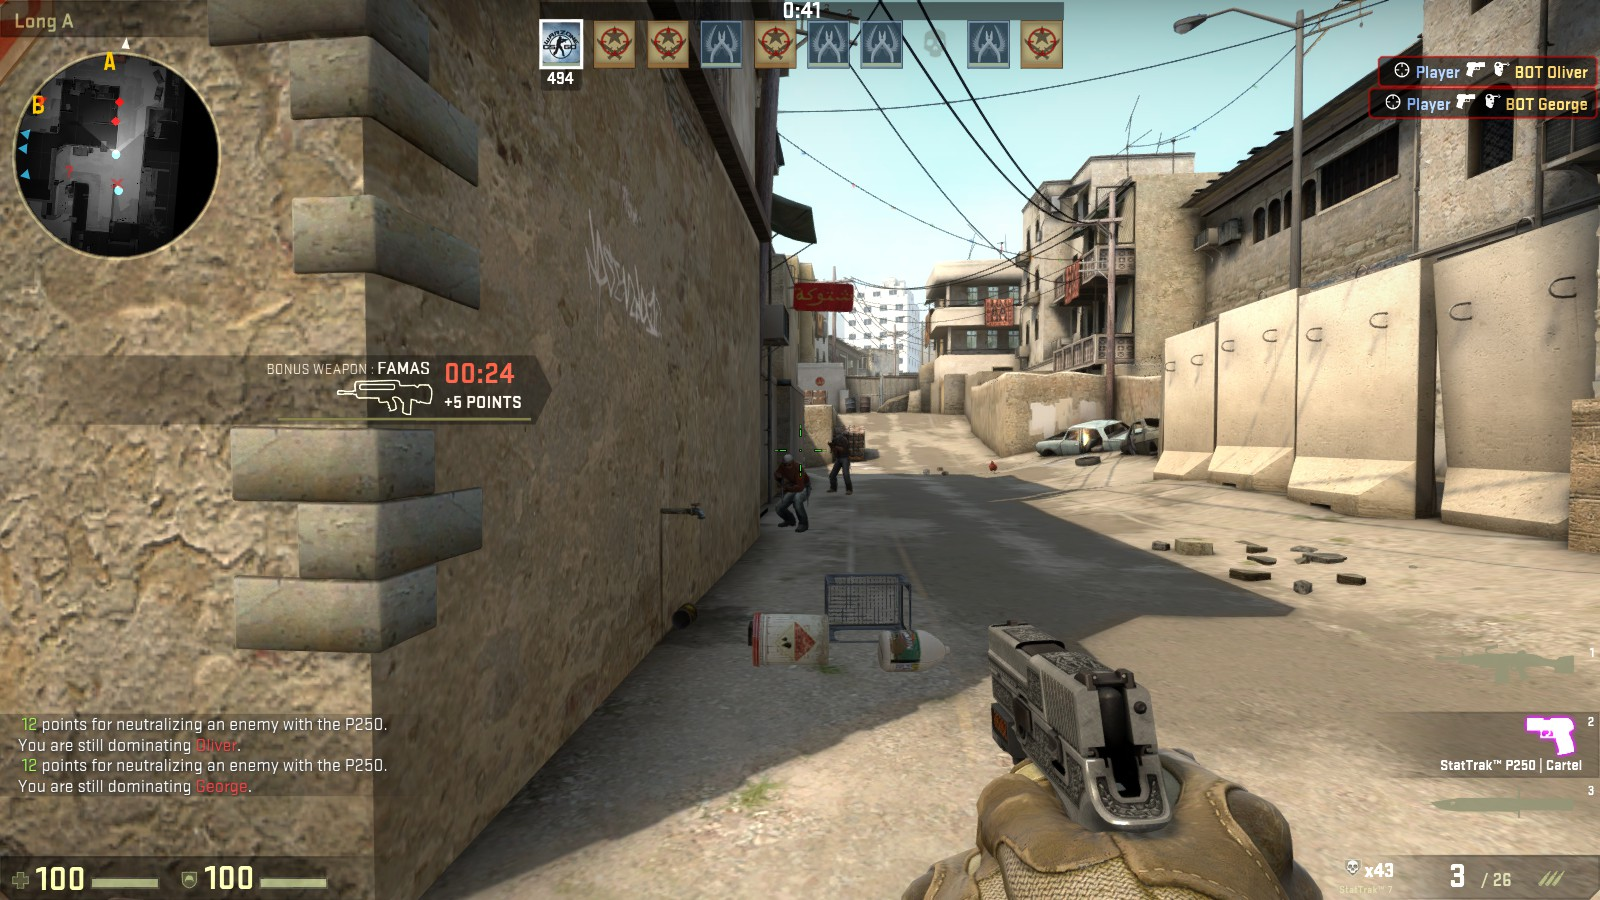t: (773, 455, 811, 531), (829, 427, 855, 497)
th: (781, 453, 796, 471), (833, 429, 844, 440)
